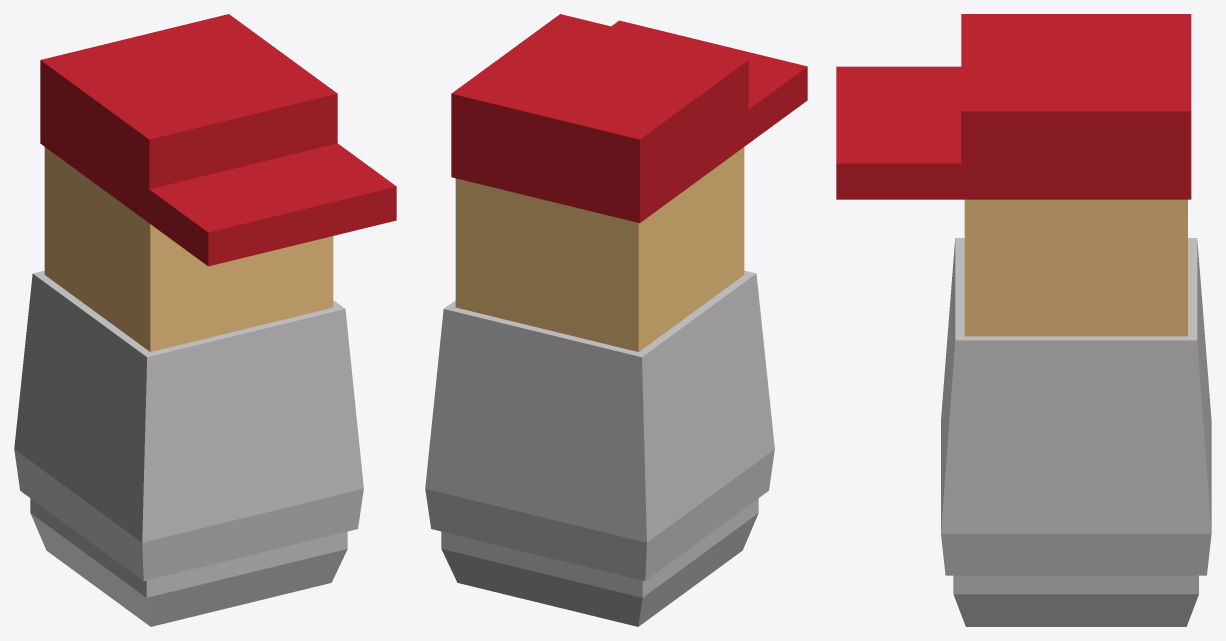
Rendered from person1.glb.
The picture shows the model from 3 angles, left to right: view 1: azimuth 30°, elevation 25°; view 2: azimuth 150°, elevation 25°; view 3: azimuth 270°, elevation 25°; orthographic projection. The views are drawn at different scales.
Visible parts, largest first — view 1: UpperBody, Hat, Face, LowerBody; view 2: UpperBody, Hat, Face, LowerBody; view 3: UpperBody, Hat, Face, LowerBody.
Boxes of the visible parts, x1=… form: UpperBody: x1=14, y1=270, x2=363, y2=580; Hat: x1=40, y1=14, x2=396, y2=266; Face: x1=44, y1=147, x2=333, y2=351; LowerBody: x1=30, y1=498, x2=347, y2=626; UpperBody: x1=425, y1=270, x2=774, y2=580; Hat: x1=451, y1=14, x2=807, y2=222; Face: x1=455, y1=147, x2=744, y2=351; LowerBody: x1=441, y1=498, x2=758, y2=626; UpperBody: x1=941, y1=238, x2=1211, y2=575; Hat: x1=836, y1=14, x2=1191, y2=199; Face: x1=964, y1=199, x2=1187, y2=336; LowerBody: x1=953, y1=575, x2=1198, y2=626.
Size of the model in its own units: 2.42 by 5.12 by 3.36.
